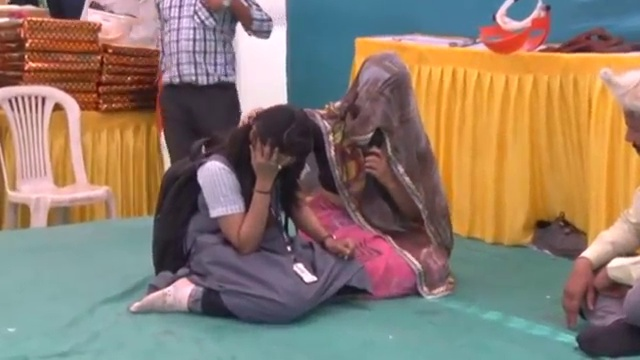helmet: (83, 5, 142, 44)
helmet_off: (247, 107, 320, 193), (595, 61, 640, 161), (346, 51, 413, 118)
person: (128, 107, 372, 321), (304, 51, 456, 297), (562, 67, 640, 357), (154, 0, 274, 165)
